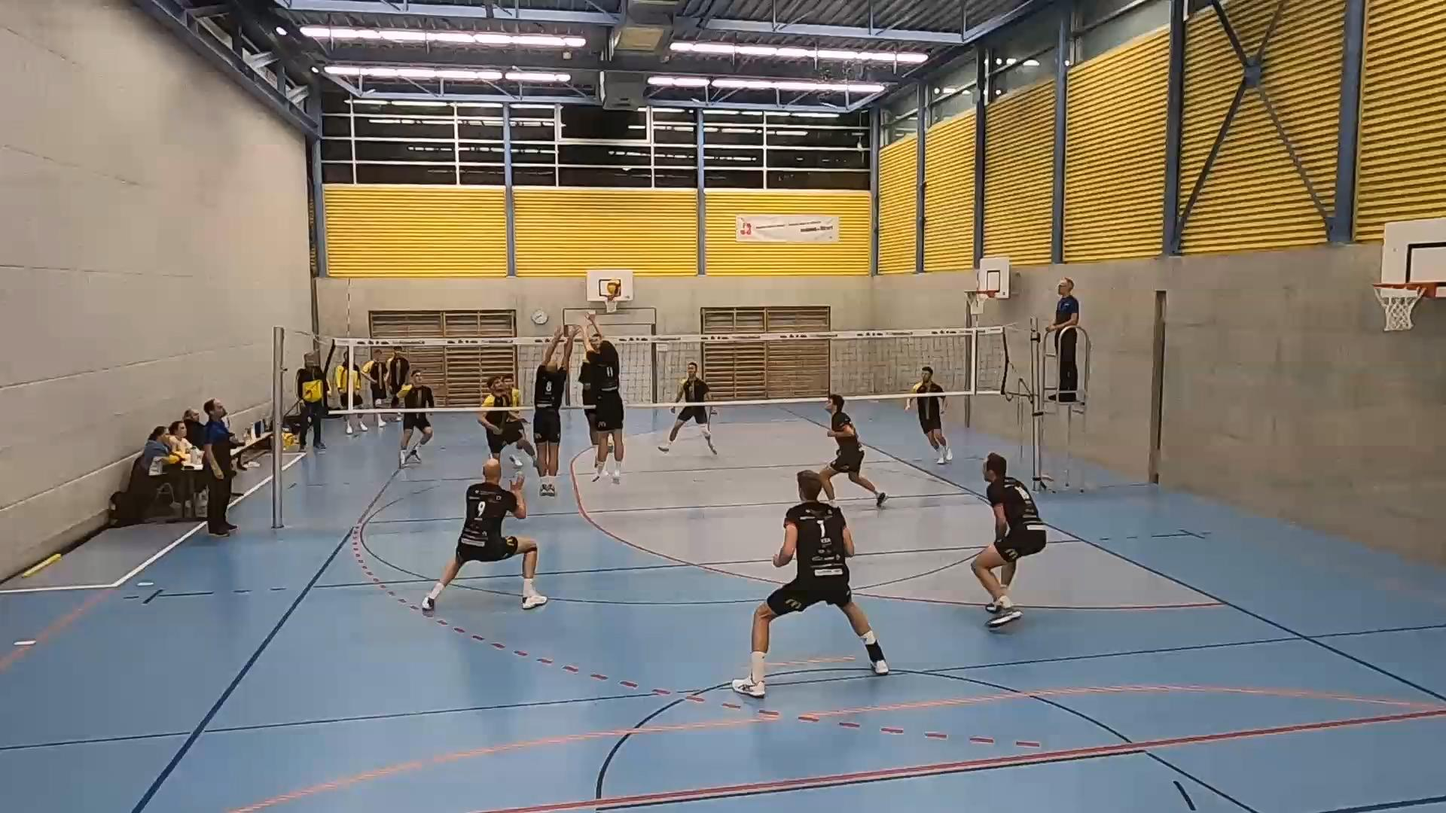Attack: (561, 325, 604, 440)
Block: (529, 323, 580, 489), (577, 312, 626, 484)
Player: (731, 471, 888, 698), (422, 461, 547, 612), (972, 453, 1046, 628), (818, 394, 886, 507), (658, 362, 716, 453), (477, 375, 535, 461), (905, 366, 952, 464), (395, 368, 435, 466)
